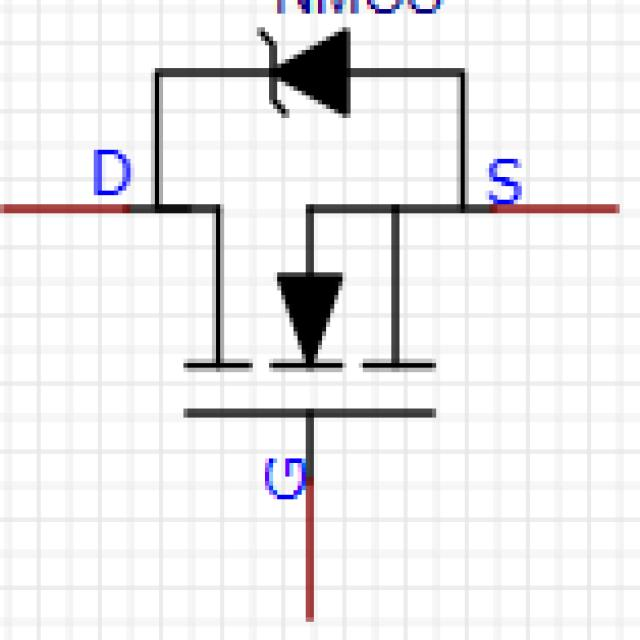nmos: (43, 22, 604, 610)
